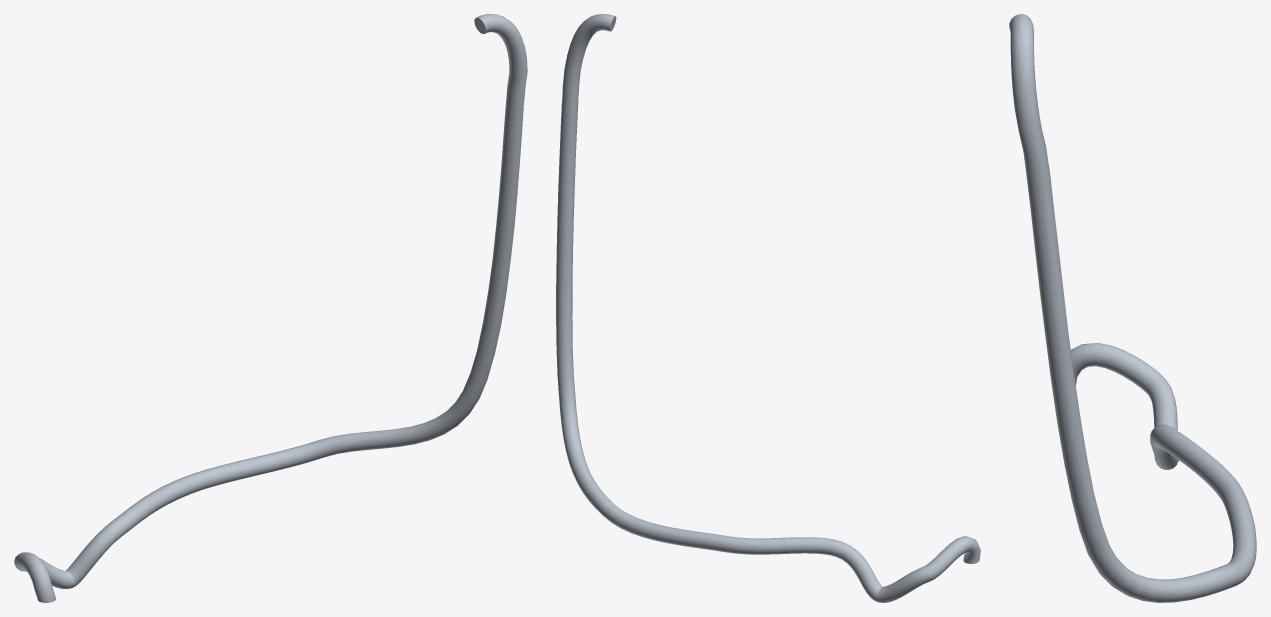
The model's file is SM_Cable_2_Splines_27.fbx.
3 views of the same model, side by side, from view 1: azimuth 30°, elevation 25°; view 2: azimuth 150°, elevation 25°; view 3: azimuth 270°, elevation 25° (orthographic). The views are drawn at different scales.
Visible parts, largest first — view 1: SM_Cable_2_Splines_27; view 2: SM_Cable_2_Splines_27; view 3: SM_Cable_2_Splines_27.
Part boxes in pixels (x1,y1,x2,y2): SM_Cable_2_Splines_27: (14, 14, 527, 602); SM_Cable_2_Splines_27: (556, 14, 980, 602); SM_Cable_2_Splines_27: (1009, 14, 1256, 602).
Size of the model in its own units: 269 by 93.85 by 284.
